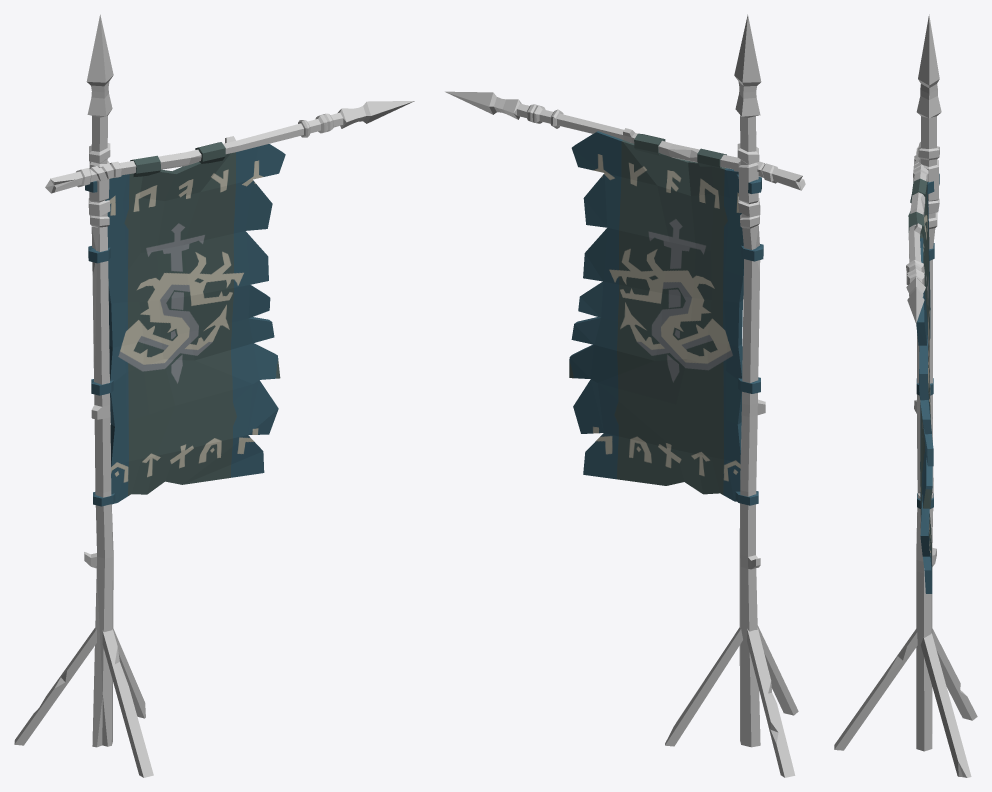
The model's file is SM_Prop_Flag_11.fbx.
The picture shows the model from 3 angles, left to right: view 1: azimuth 30°, elevation 25°; view 2: azimuth 150°, elevation 25°; view 3: azimuth 270°, elevation 25°; orthographic projection.
Parts seen in each view (by area): view 1: SM_Prop_Flag_11_Flag, SM_Prop_Flag_11; view 2: SM_Prop_Flag_11_Flag, SM_Prop_Flag_11; view 3: SM_Prop_Flag_11, SM_Prop_Flag_11_Flag.
Boxes of the visible parts, left/top/right/bottom form: SM_Prop_Flag_11_Flag: left=85, top=142, right=285, bottom=506; SM_Prop_Flag_11: left=14, top=14, right=414, bottom=777; SM_Prop_Flag_11_Flag: left=569, top=131, right=763, bottom=505; SM_Prop_Flag_11: left=445, top=14, right=805, bottom=777; SM_Prop_Flag_11: left=834, top=14, right=977, bottom=777; SM_Prop_Flag_11_Flag: left=908, top=173, right=939, bottom=593.
Size of the model in its own units: 268 by 498 by 88.26.
